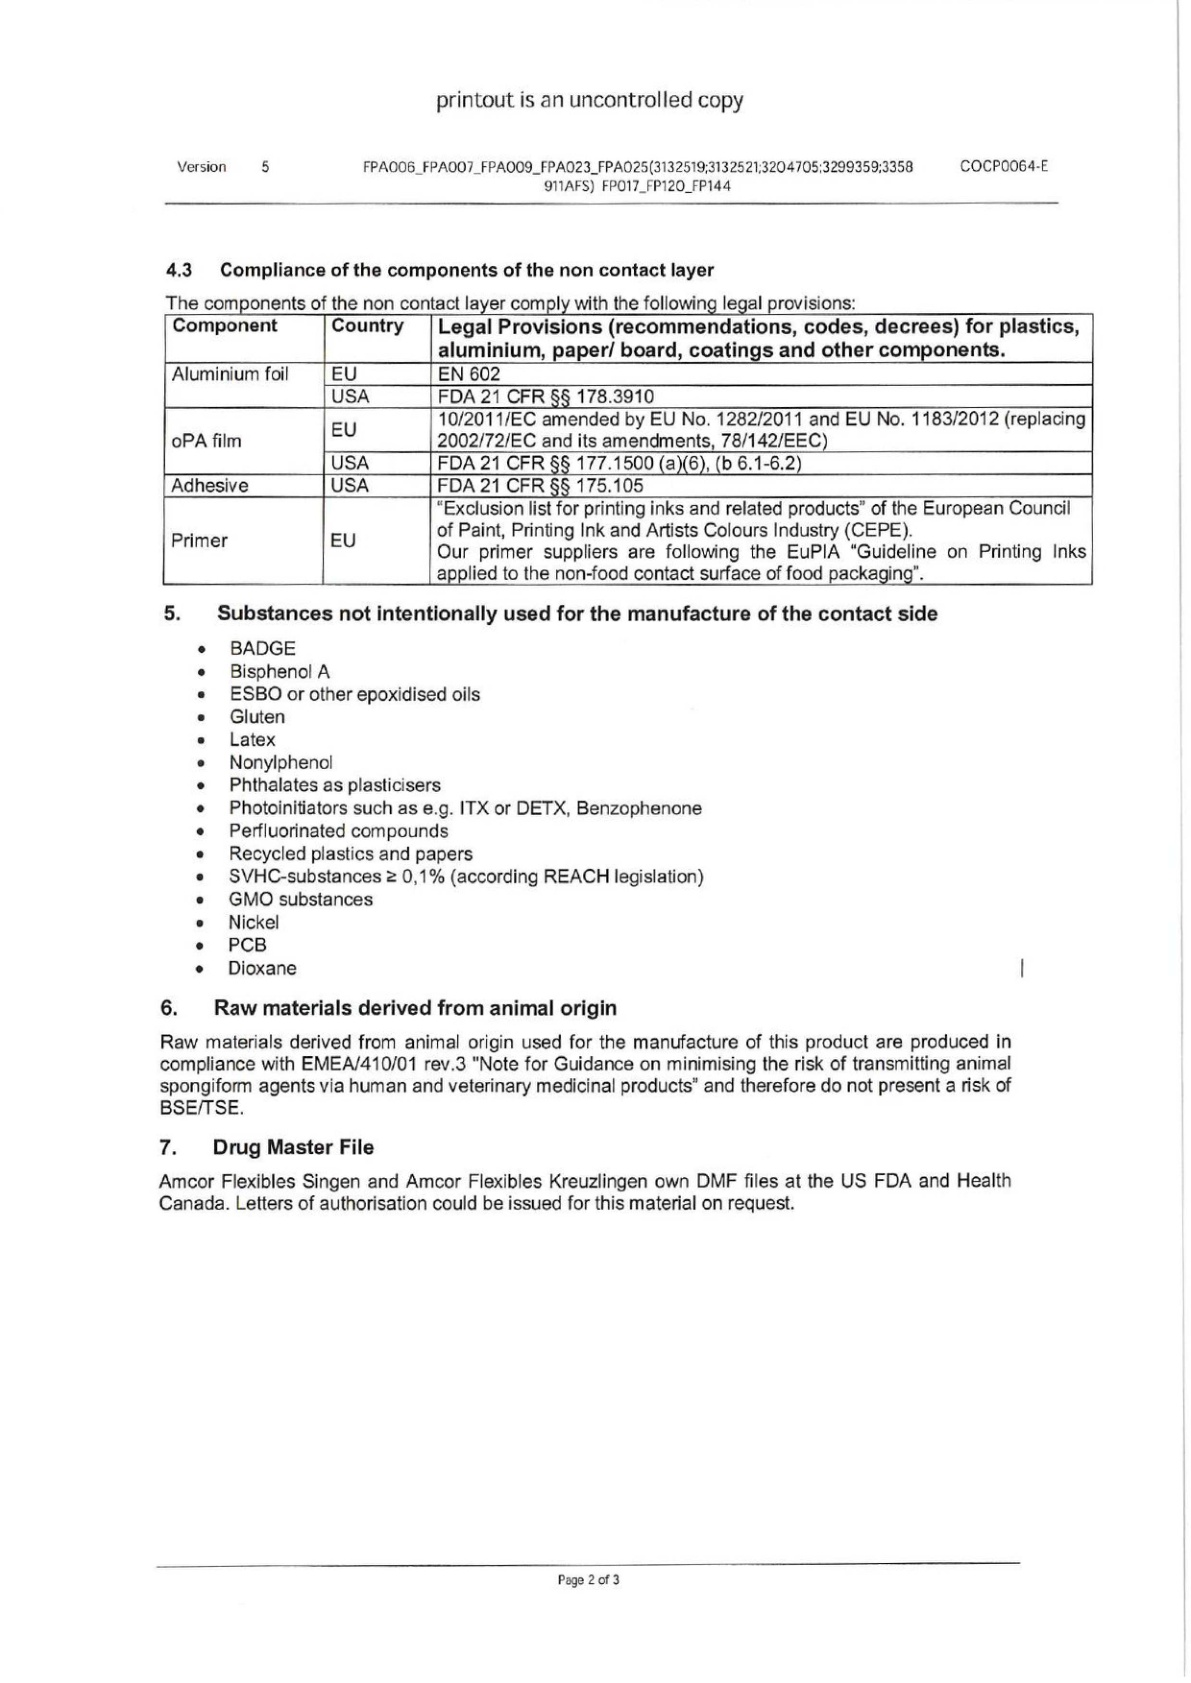merged_cells: (162, 313, 1094, 586)
